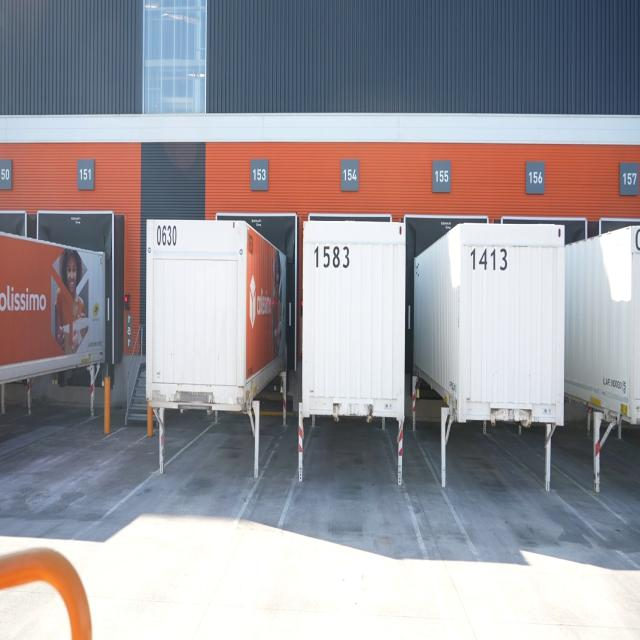Code: (466, 241, 512, 278), (311, 238, 352, 276), (154, 221, 179, 251)
